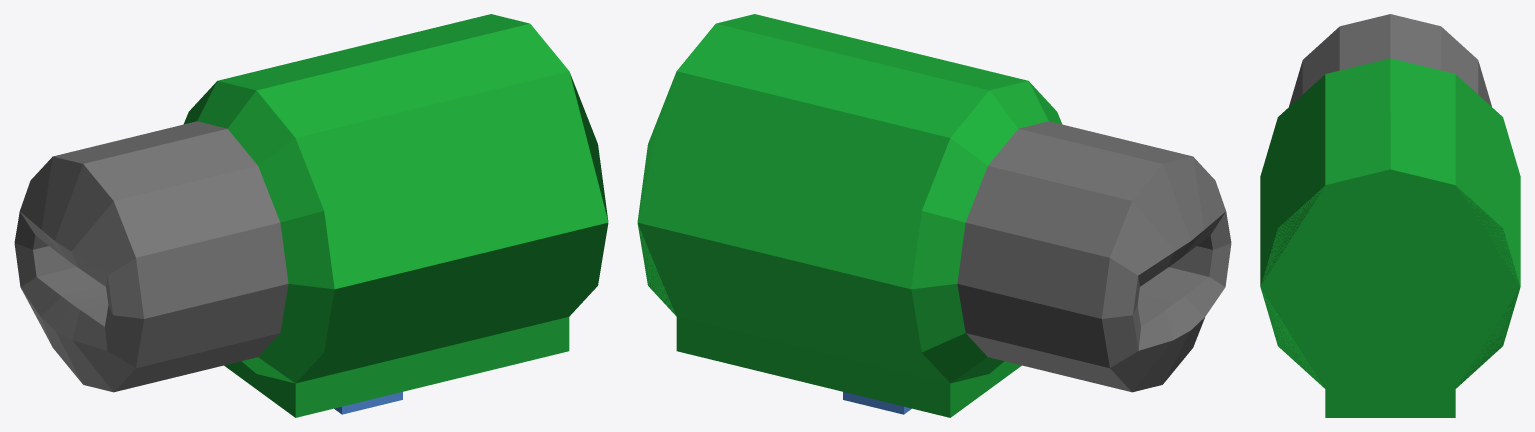
The model's file is canonPrototype.fbx.
The picture shows the model from 3 angles, left to right: view 1: azimuth 30°, elevation 25°; view 2: azimuth 150°, elevation 25°; view 3: azimuth 270°, elevation 25°; orthographic projection. The views are drawn at different scales.
Visible parts, largest first — view 1: AspireCanon; view 2: AspireCanon; view 3: AspireCanon.
Part boxes in pixels (bbox=[...]): AspireCanon: bbox=[14, 14, 608, 417]; AspireCanon: bbox=[637, 14, 1231, 417]; AspireCanon: bbox=[1260, 14, 1520, 417].
Size of the model in its own units: 351 by 219 by 200.
